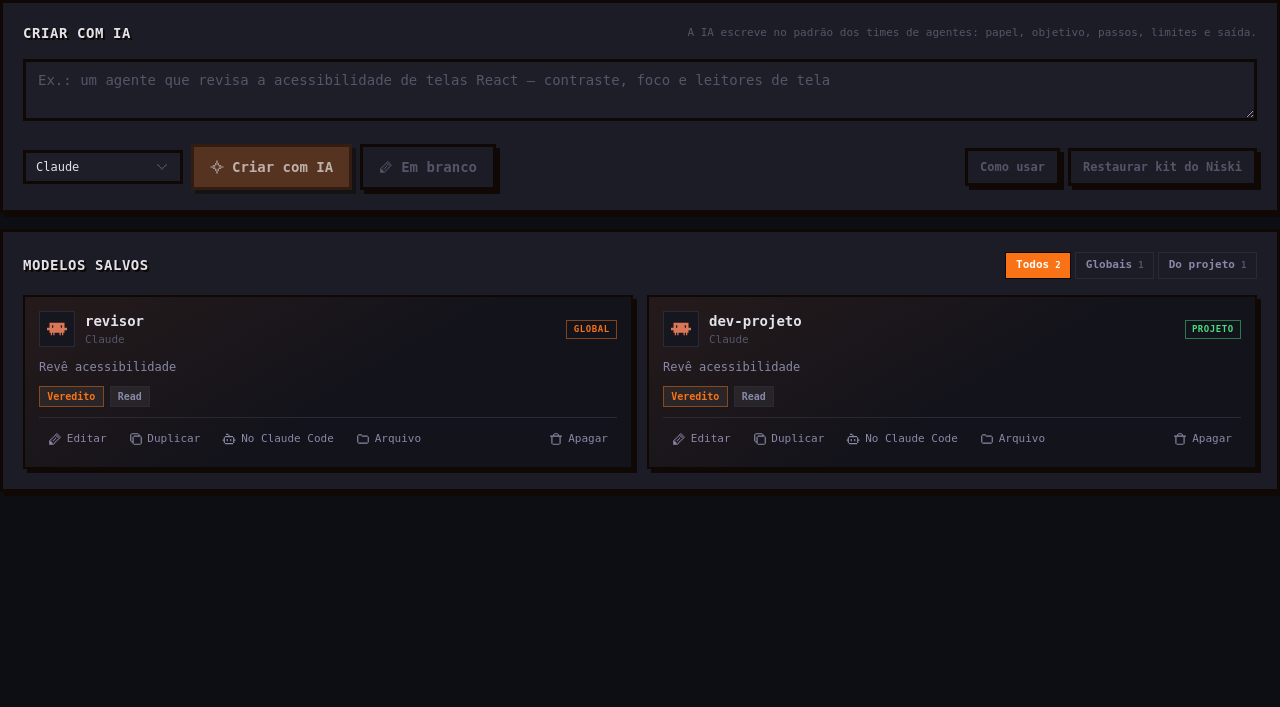
Test case: edita preservando o nome anterior usado ao salvar
Click the button "Editar" below "revisor" at (77, 439), box [39,426,116,452]
(page scrolled)
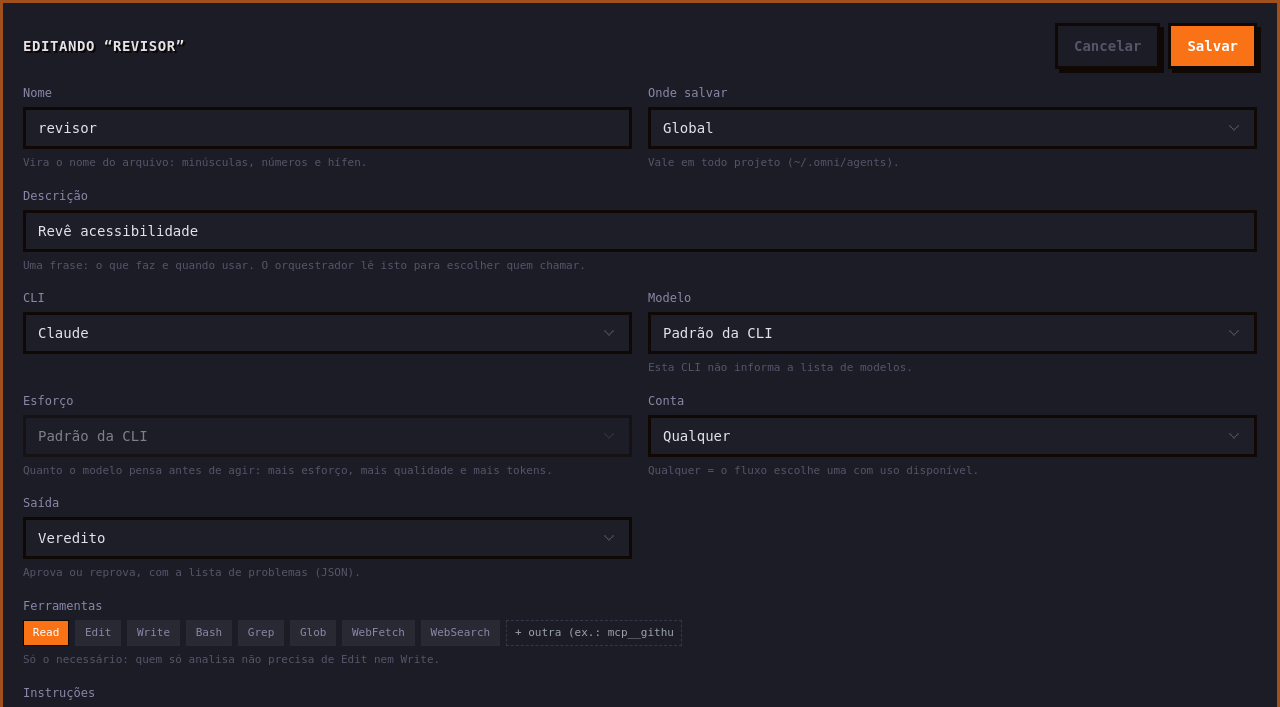
Replace the text in the field labelled "Descrição" with "Confere foco e contraste" at (640, 230), box [23,210,1257,252]
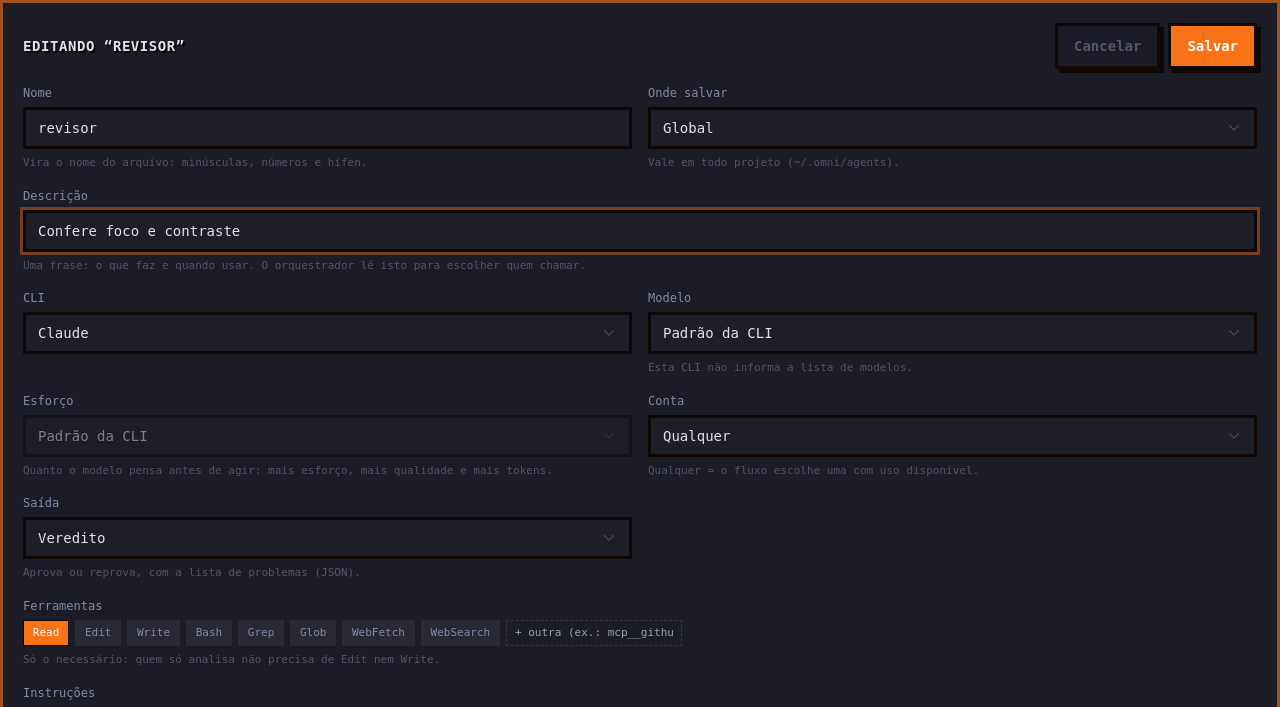
Click the button "Salvar" at (1213, 46), box [1168,23,1257,69]
(page scrolled)
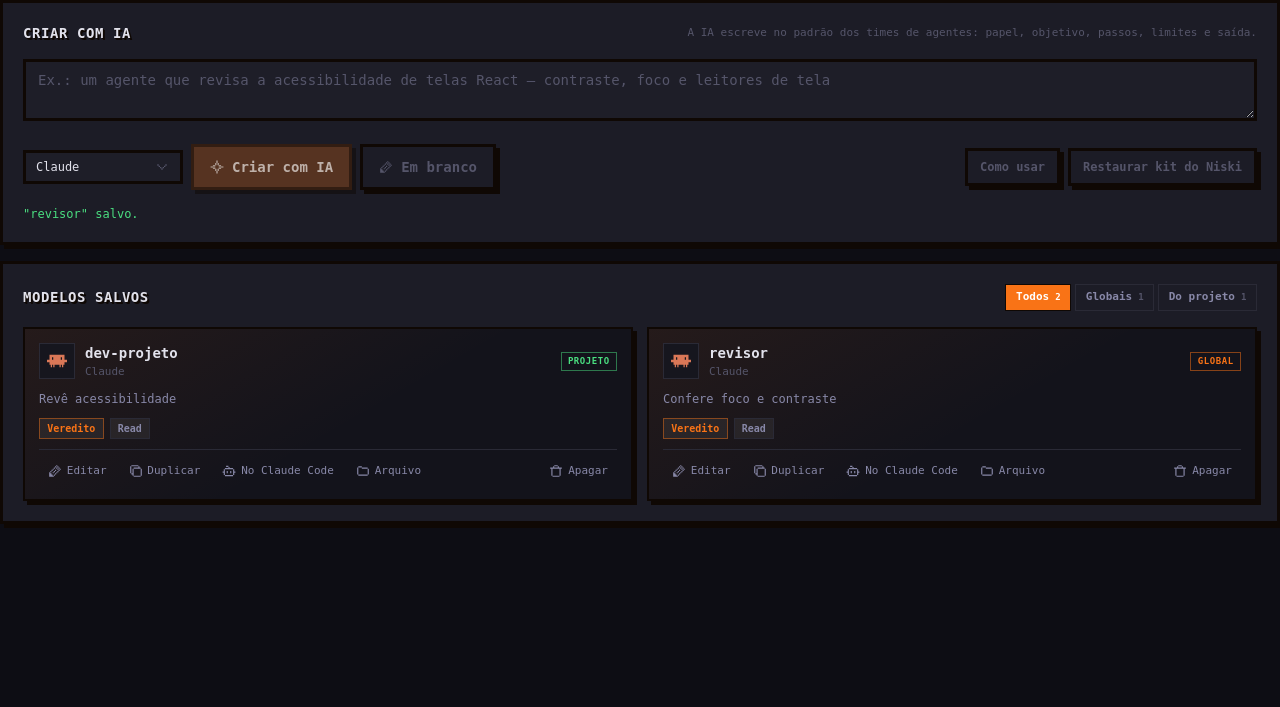
Expected: the text "Confere foco e contraste" is shown, [663,392,836,406]
